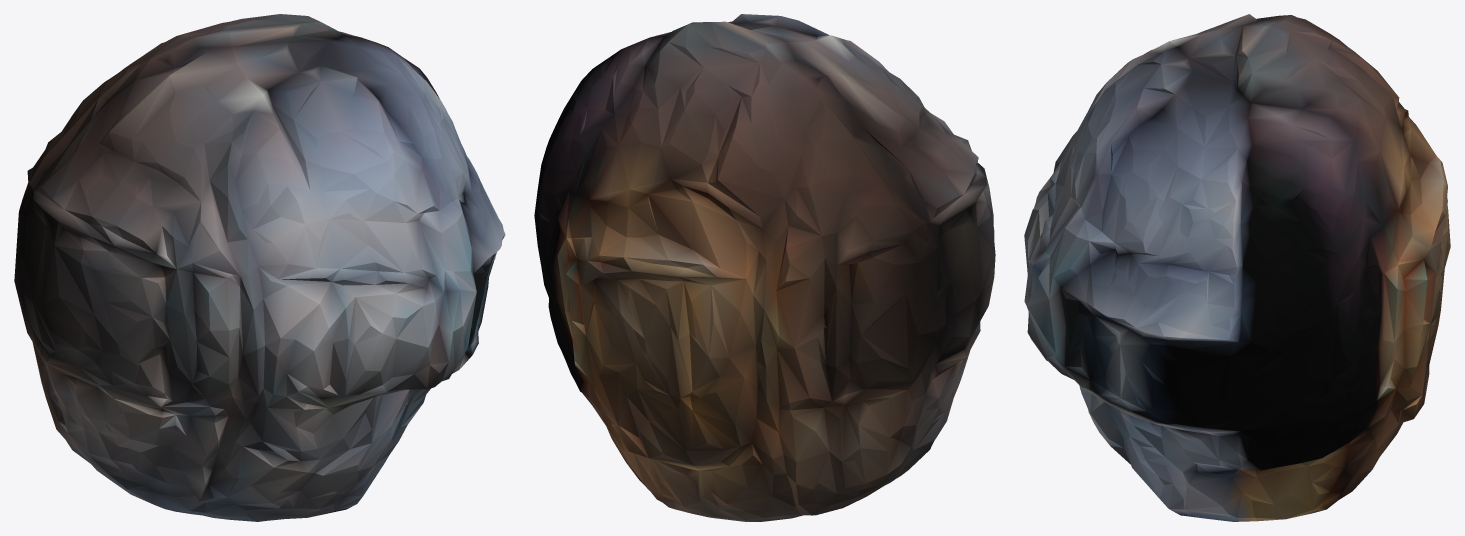
The model's file is daft_punk_random_access_memories.obj.
3 renders of one model, left to right at view 1: azimuth 30°, elevation 25°; view 2: azimuth 150°, elevation 25°; view 3: azimuth 270°, elevation 25°, orthographic. The views are drawn at different scales.
Parts seen in each view (by area): view 1: ia; view 2: ia; view 3: ia.
Part boxes in pixels (x1,y1,x2,y2): ia: [14, 14, 505, 521]; ia: [534, 14, 995, 521]; ia: [1024, 14, 1450, 521].
Size of the model in its own units: 0.5815 by 0.6 by 0.5047.
